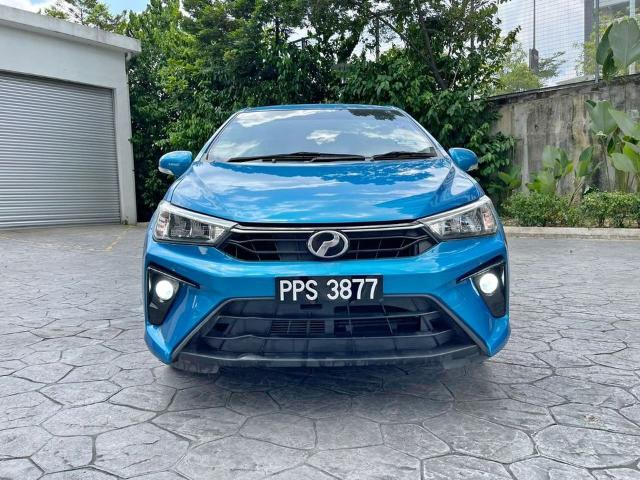License_Plate: (273, 275, 386, 309)
car: (138, 99, 518, 385)
